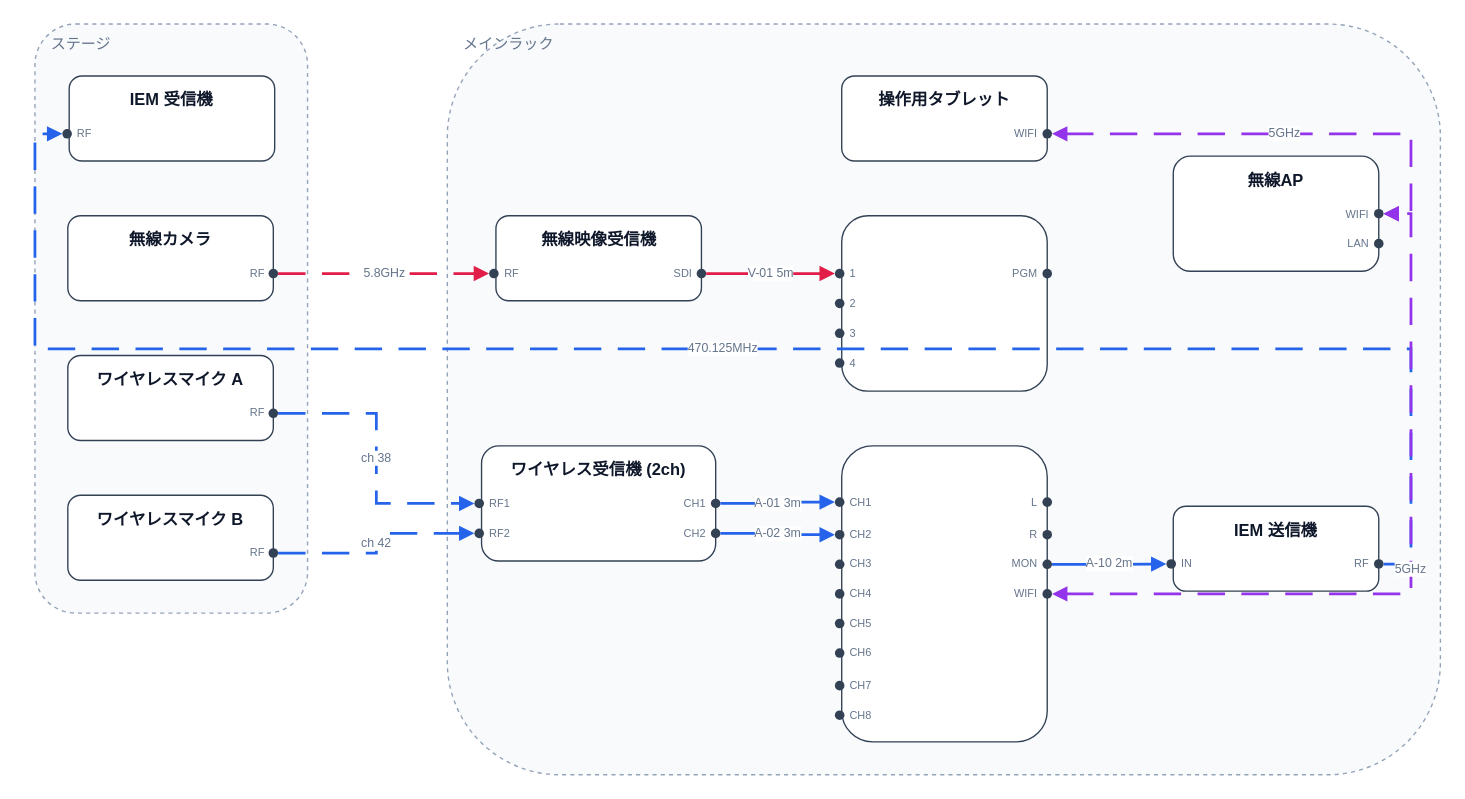
Some shapes in this 1465 by 799 pixel diagram are drawn without their labels. The shapes that lost their labels are listed below. From the top down, each one's centre as x and y in pixels, then its label:
pixel 943 302: スイッチャー
pixel 943 593: デジタル卓
